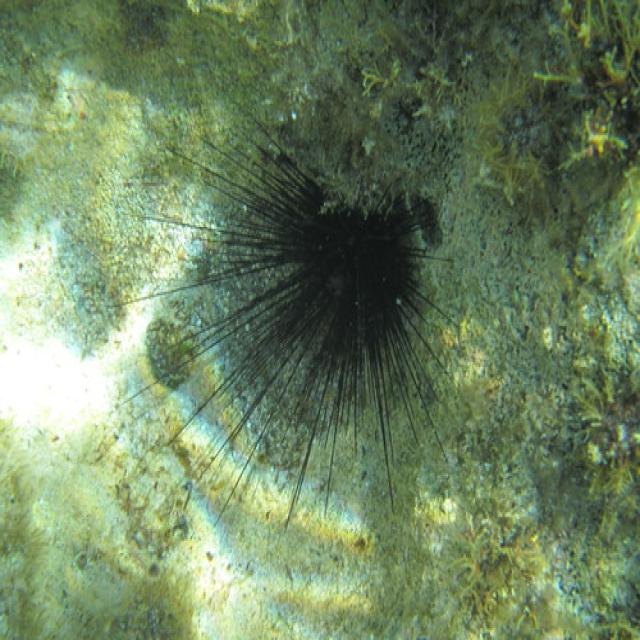Urchin: (114, 115, 462, 532)
